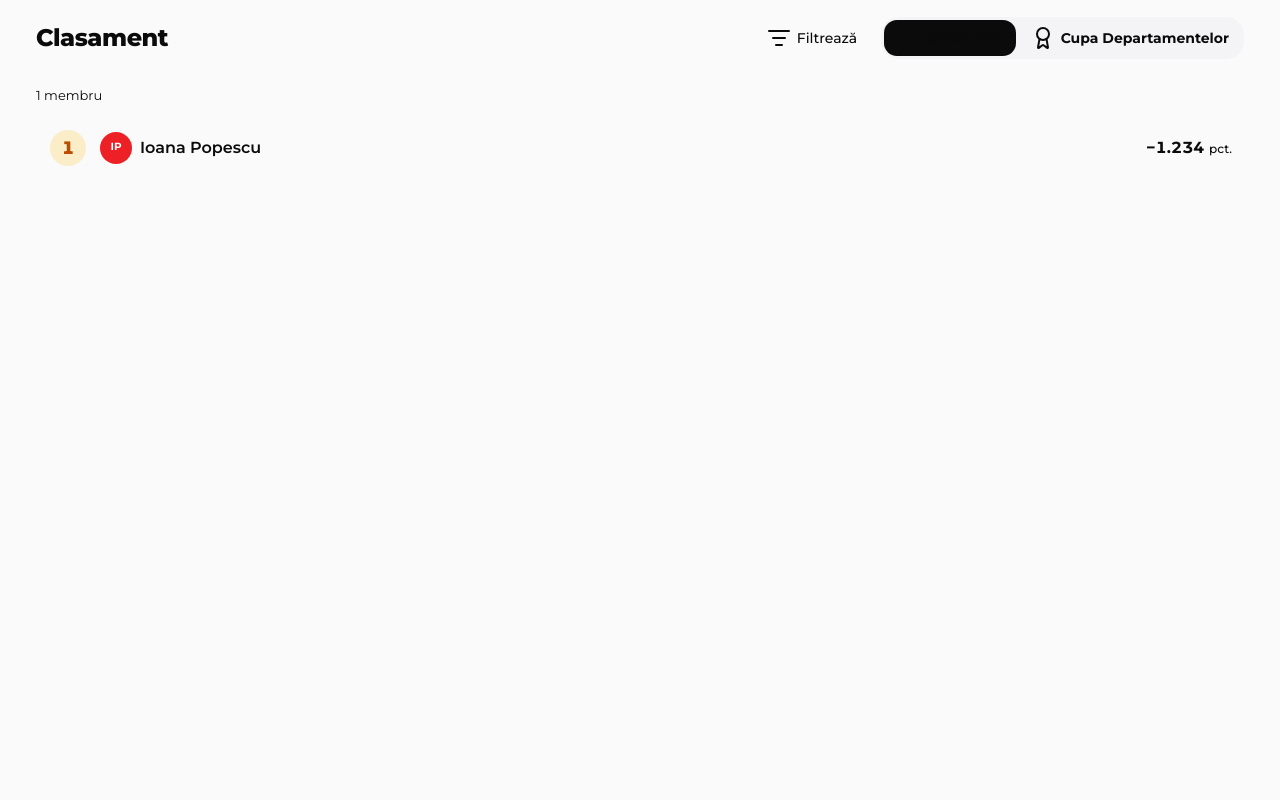
Test: still works when this device cannot store the choice
The image size is (1280, 800).
expect the element named "Clasamentul membrilor" is shown: met, box [36,84,1244,178]
Click the button "Cupa Departamentelor": (1130, 38) [1019,20,1241,56]
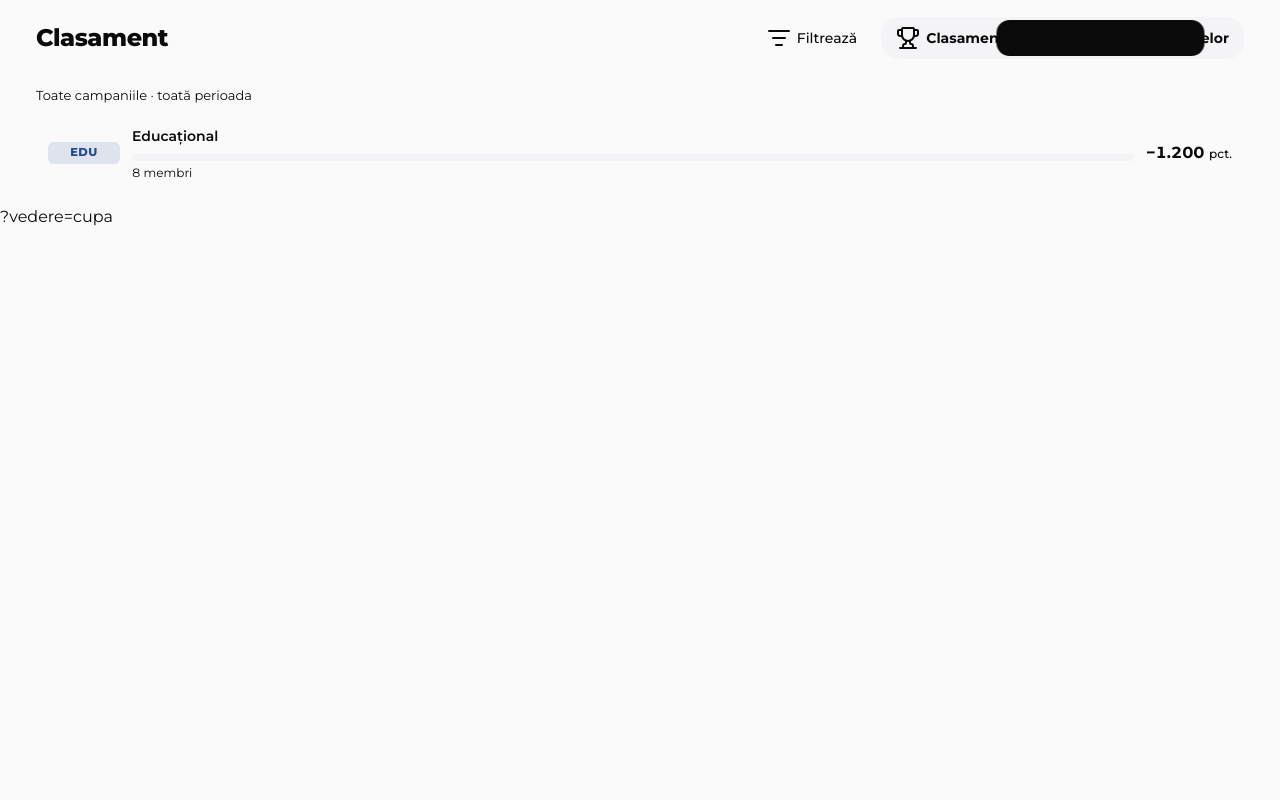
expect the element named "Cupa Departamentelor" is shown: met, box [36,84,1244,188]
